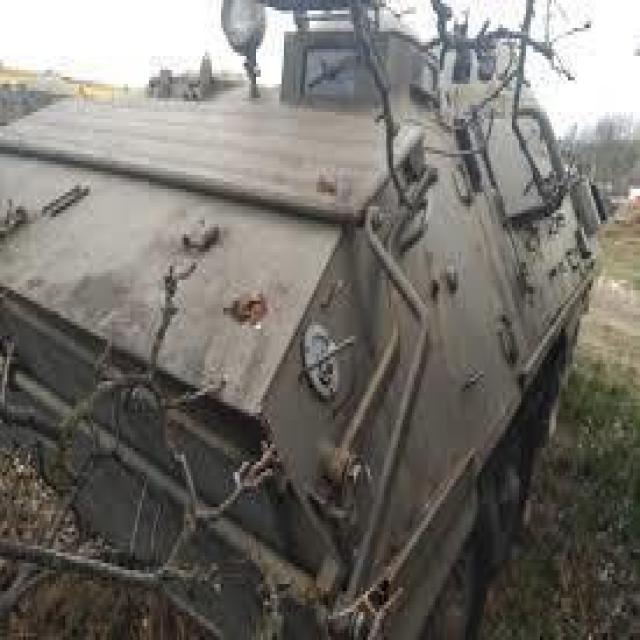Tanks: (3, 25, 590, 630)
